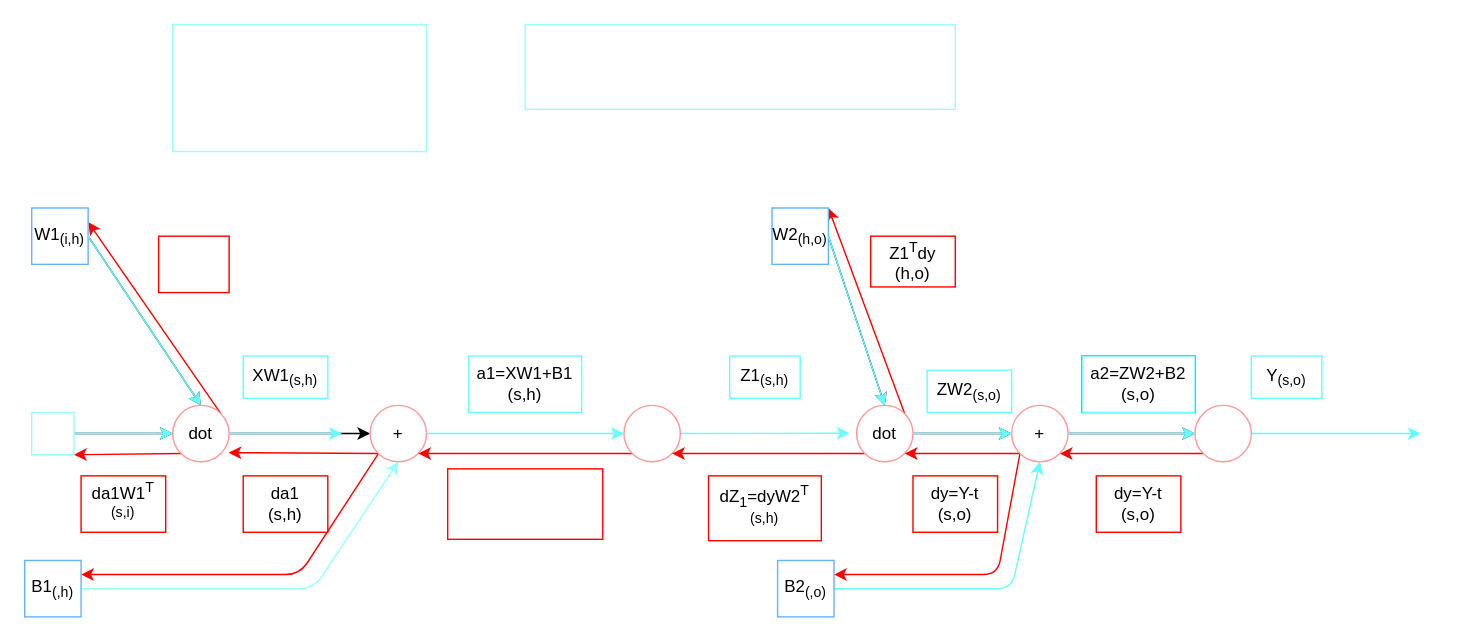
This 1457x642 diagram has some shape labels left out. The box of each missing label's shape, as (x1, y1, x2, y2) in pixels:
da1=dZ1*Z1*(1-Z1) （s,h） 注意是元素乘！: (446, 467, 603, 539)
sig: (623, 404, 680, 462)
soft: (1194, 404, 1251, 462)
X (s,i): (30, 411, 74, 455)
X T da1 (i,h): (157, 235, 229, 293)
简单双层网络的计算图，其中： s:batch size . i: 输入层神经元个数 h:隐藏层神经元个数 o:输出层神经元个数: (171, 23, 427, 152)
需要注意的点： dL/dx的shape 与 dx的shape相同 sigmoid层反向传播时，全部为元素的乘法而非矩阵乘法: (524, 23, 955, 109)
